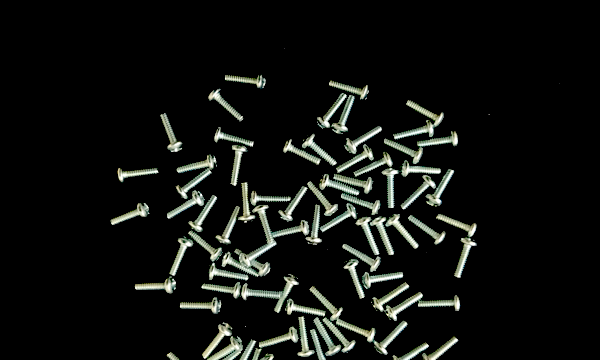shortscrew: (373, 320, 411, 357), (321, 317, 358, 355), (400, 174, 437, 210), (371, 281, 410, 314), (384, 290, 424, 322), (309, 286, 344, 322), (207, 87, 244, 121), (408, 216, 448, 247), (343, 243, 383, 274), (301, 132, 337, 166), (314, 317, 343, 359), (315, 93, 347, 131), (385, 214, 419, 249), (201, 322, 233, 359), (320, 203, 358, 234), (166, 190, 205, 220), (336, 318, 379, 345), (426, 169, 456, 207), (188, 195, 218, 233), (279, 185, 309, 223), (233, 248, 272, 277), (406, 99, 446, 127), (336, 145, 376, 173), (109, 201, 151, 227), (239, 240, 278, 268), (176, 170, 212, 200), (220, 251, 263, 276), (345, 126, 383, 154), (355, 215, 380, 257), (159, 111, 184, 153), (274, 274, 300, 314), (169, 236, 195, 276), (341, 259, 366, 300), (454, 238, 479, 279), (436, 213, 478, 237), (371, 214, 395, 256), (258, 326, 300, 349), (363, 268, 405, 291), (206, 334, 243, 360), (331, 95, 355, 135), (216, 206, 240, 246), (282, 140, 320, 165), (333, 172, 374, 195), (329, 79, 371, 101), (213, 126, 255, 148), (318, 174, 360, 196), (422, 336, 459, 360), (202, 280, 242, 302), (224, 72, 267, 92), (342, 192, 381, 214), (241, 283, 283, 303), (229, 145, 249, 187), (393, 120, 435, 140), (253, 203, 274, 243), (117, 166, 161, 185), (177, 154, 218, 174), (296, 317, 315, 359), (284, 299, 326, 318), (179, 297, 222, 315), (207, 263, 250, 281), (237, 183, 256, 223), (271, 220, 311, 239), (399, 160, 441, 178), (135, 276, 177, 294), (418, 131, 460, 149), (194, 235, 223, 261), (390, 342, 430, 360), (306, 206, 324, 246), (418, 296, 462, 312), (310, 330, 333, 360), (250, 191, 292, 206), (228, 339, 257, 360), (205, 348, 242, 360), (166, 351, 202, 360), (239, 348, 262, 360), (260, 353, 292, 360)
